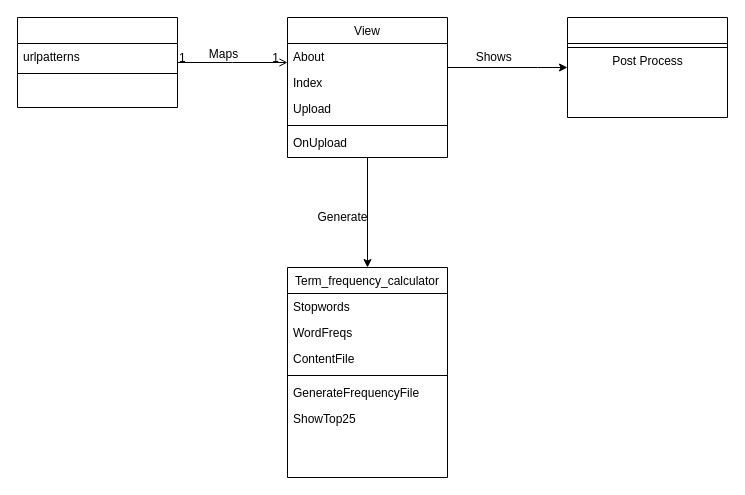
This 745x495 diagram has some shape labels left out. Each missing label, with the box of its shape:
Template: (566, 16, 728, 118)
Urls: (16, 16, 178, 108)
